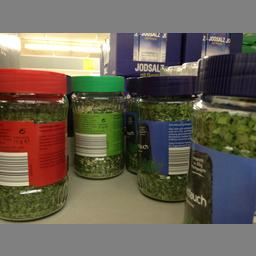spices: (172, 52, 252, 222), (0, 66, 70, 220), (134, 76, 196, 198), (68, 74, 124, 178)
